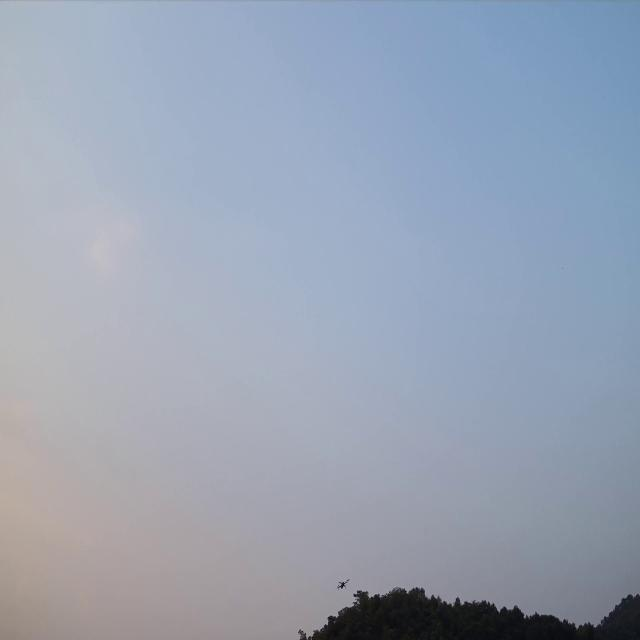UAV: (336, 577, 349, 592)
